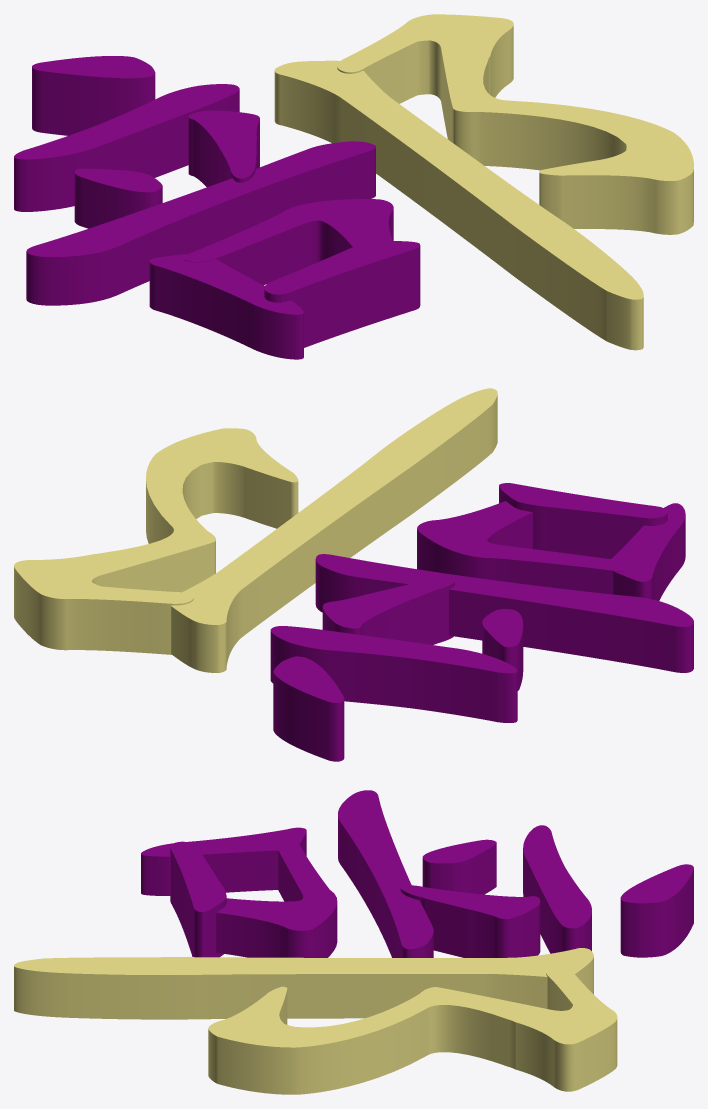
The model's file is hanzi238.fbx.
3 renders of one model, top to bottom at view 1: azimuth 30°, elevation 25°; view 2: azimuth 150°, elevation 25°; view 3: azimuth 270°, elevation 25°, orthographic. The views are drawn at different scales.
Visible parts, largest first — view 1: Curve.008, Curve.009, Curve.004, Curve.001, Curve.007, Curve.005, Curve.006, Curve, Curve.003, Curve.002; view 2: Curve.008, Curve.009, Curve.004, Curve.001, Curve.006, Curve.007, Curve.003, Curve, Curve.005, Curve.002; view 3: Curve.008, Curve.009, Curve.006, Curve.004, Curve.003, Curve.005, Curve, Curve.001, Curve.007, Curve.002.
Part boxes in pixels (x1,y1,x2,y2): Curve.008: (337,14,693,234); Curve.009: (274,60,643,350); Curve.004: (26,141,375,305); Curve.001: (14,84,239,211); Curve.007: (264,241,420,347); Curve.005: (149,254,303,359); Curve.006: (183,199,393,285); Curve: (32,56,155,135); Curve.003: (188,110,259,187); Curve.002: (74,168,162,228); Curve.008: (14,428,298,654); Curve.009: (171,388,497,672); Curve.004: (315,554,693,672); Curve.001: (270,626,517,722); Curve.006: (417,501,628,594); Curve.007: (499,483,667,558); Curve.003: (322,579,454,644); Curve: (273,656,344,761); Curve.005: (611,503,685,600); Curve.002: (482,609,523,690); Curve.008: (208,967,617,1094); Curve.009: (14,948,593,1019); Curve.006: (216,839,337,957); Curve.004: (338,790,433,957); Curve.003: (400,885,540,957); Curve.005: (141,827,306,895); Curve: (620,864,693,957); Curve.001: (523,825,591,953); Curve.007: (170,841,226,957); Curve.002: (422,839,496,894).
Bounding box in the file's own units: 23.24 × 25.72 × 2.26.
